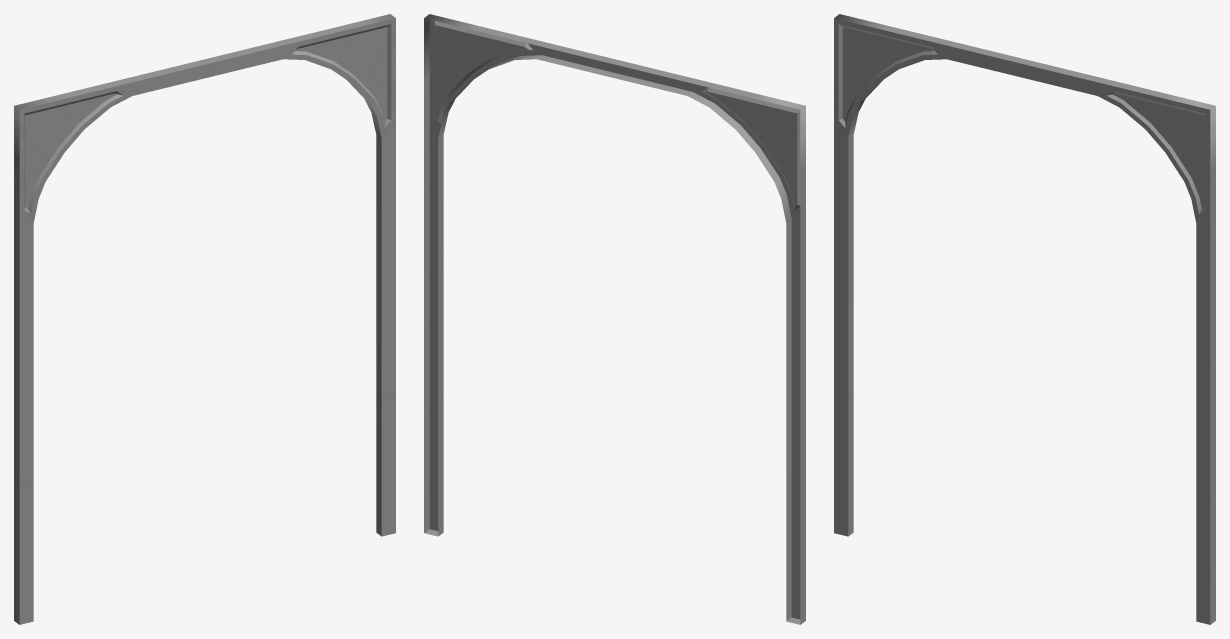
The model's file is SM_MoldingMid_03.fbx.
The picture shows the model from 3 angles, left to right: view 1: azimuth 30°, elevation 25°; view 2: azimuth 150°, elevation 25°; view 3: azimuth 330°, elevation 25°; orthographic projection.
Parts seen in each view (by area): view 1: SM_MoldingMid_03; view 2: SM_MoldingMid_03; view 3: SM_MoldingMid_03.
Part boxes in pixels (left/top/right/bottom): SM_MoldingMid_03: left=14, top=14, right=395, bottom=624; SM_MoldingMid_03: left=424, top=14, right=805, bottom=624; SM_MoldingMid_03: left=834, top=14, right=1215, bottom=624.
Size of the model in its own units: 400 by 523 by 10.18.
